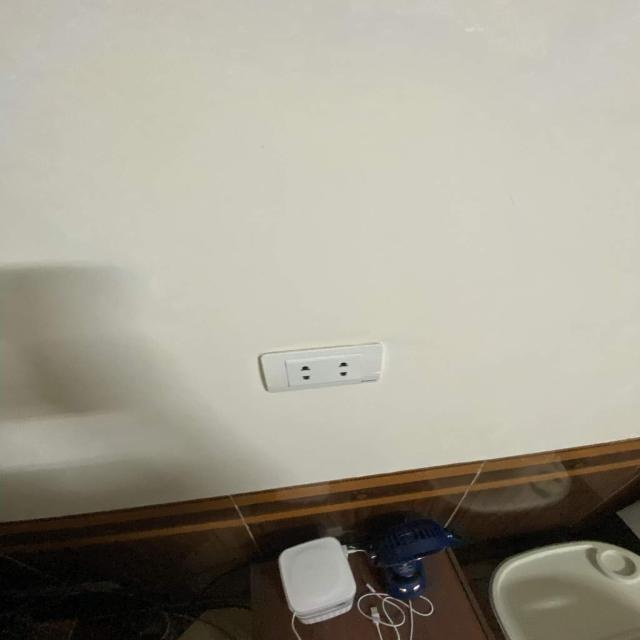outlet: (258, 342, 384, 392)
